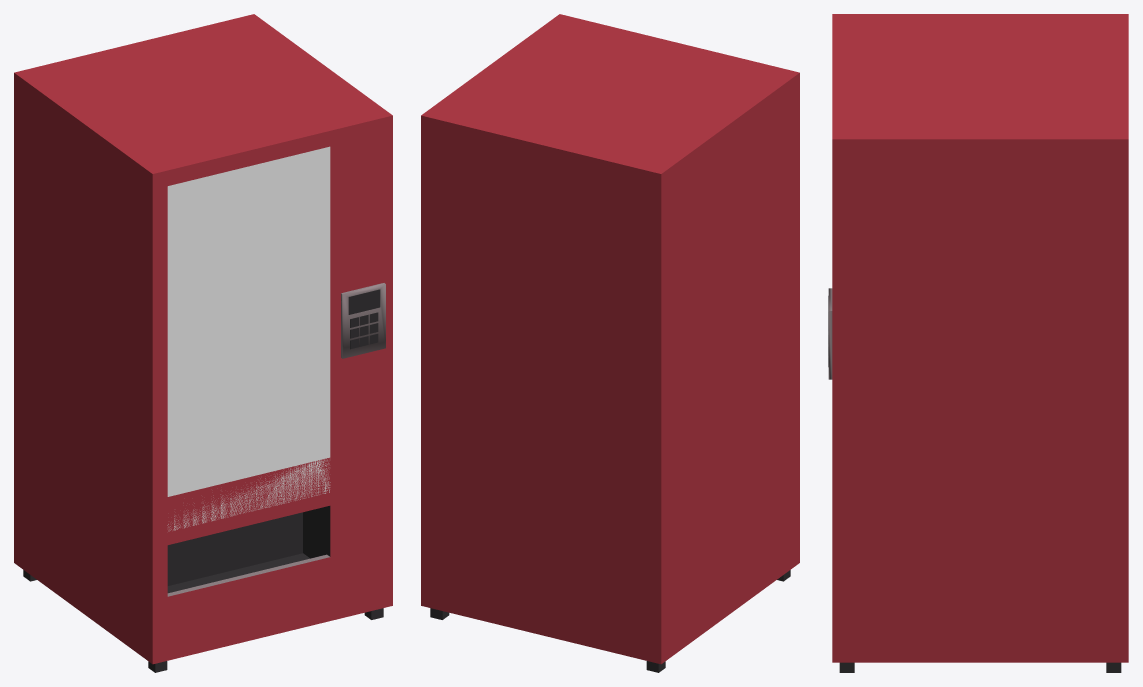
The model's file is BoxMachine.fbx.
3 renders of one model, left to right at view 1: azimuth 30°, elevation 25°; view 2: azimuth 150°, elevation 25°; view 3: azimuth 270°, elevation 25°, orthographic. The views are drawn at different scales.
Parts seen in each view (by area): view 1: BoxMachine; view 2: BoxMachine; view 3: BoxMachine.
Part boxes in pixels (bbox=[...]): BoxMachine: bbox=[14, 14, 392, 672]; BoxMachine: bbox=[421, 14, 799, 672]; BoxMachine: bbox=[828, 14, 1128, 672].
Bounding box in the file's own units: 400 × 800 × 406.
